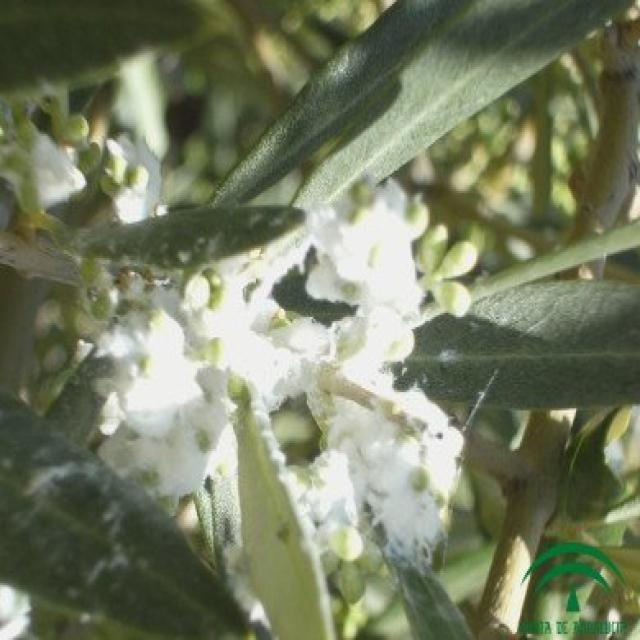Psyllid: (100, 181, 463, 587), (0, 92, 159, 222)
